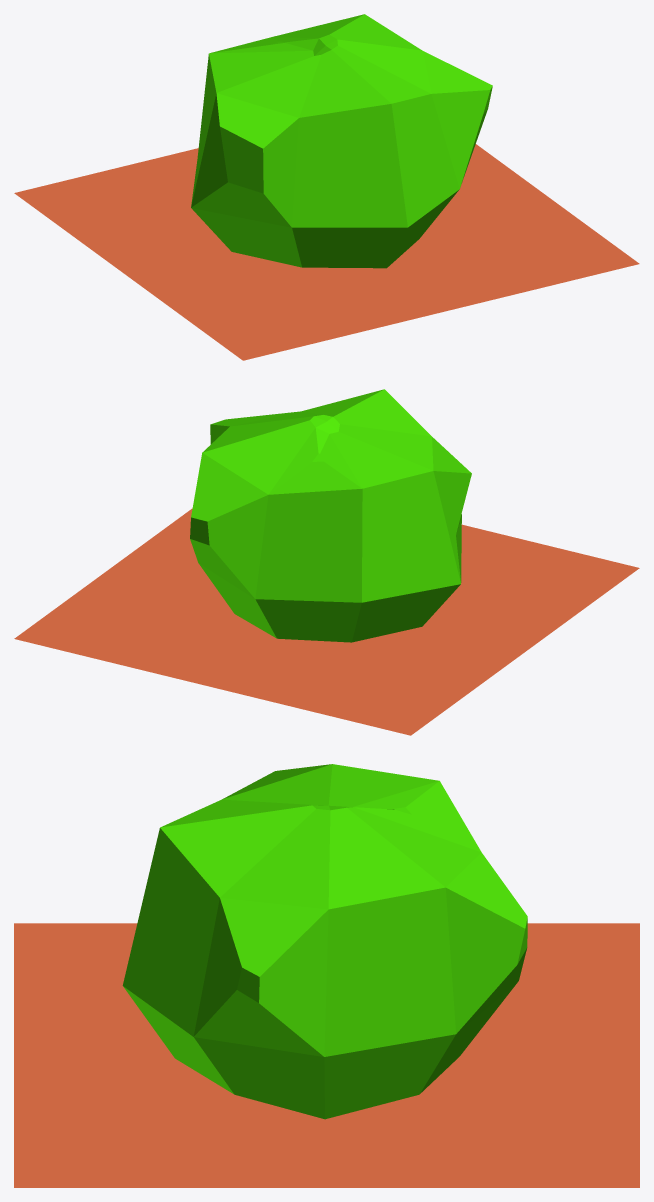
Rendered from räriteten2.glb.
3 renders of one model, top to bottom at view 1: azimuth 30°, elevation 25°; view 2: azimuth 150°, elevation 25°; view 3: azimuth 270°, elevation 25°, orthographic. The views are drawn at different scales.
Visible parts, largest first — view 1: Plane, Plane.001; view 2: Plane, Plane.001; view 3: Plane, Plane.001.
Boxes of the visible parts, left/top/right/bottom form: Plane: left=191, top=14, right=492, bottom=268; Plane.001: left=14, top=144, right=639, bottom=360; Plane: left=190, top=389, right=471, bottom=642; Plane.001: left=14, top=508, right=639, bottom=735; Plane: left=122, top=764, right=527, bottom=1119; Plane.001: left=14, top=923, right=639, bottom=1187.
Bounding box in the file's own units: 2 × 0.897 × 2.
